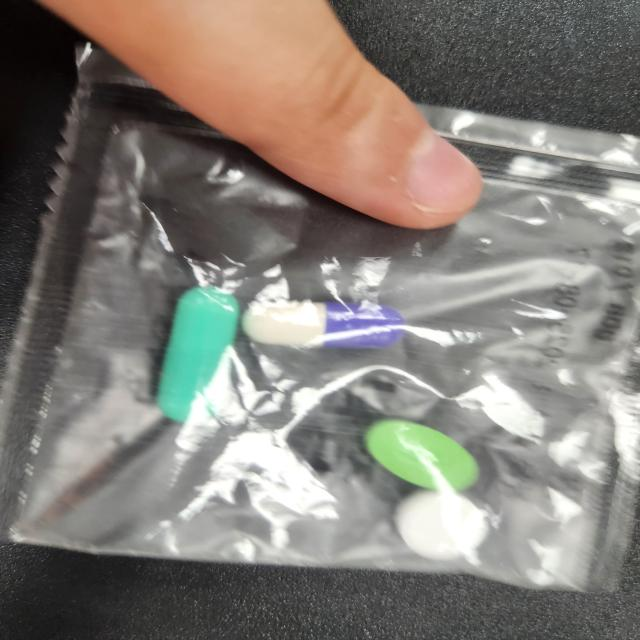러키펜정: (398, 489, 496, 564)
씨엠지세파클러캡슐: (241, 300, 403, 352)
에르도캡슐: (155, 284, 243, 424)
휴티렌정: (364, 419, 484, 493)
